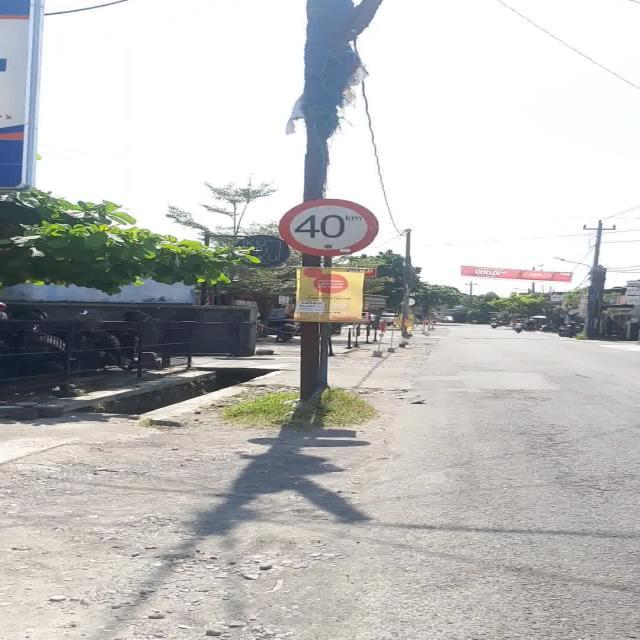Kecepatan Maks. 40 km: (278, 199, 380, 256)
